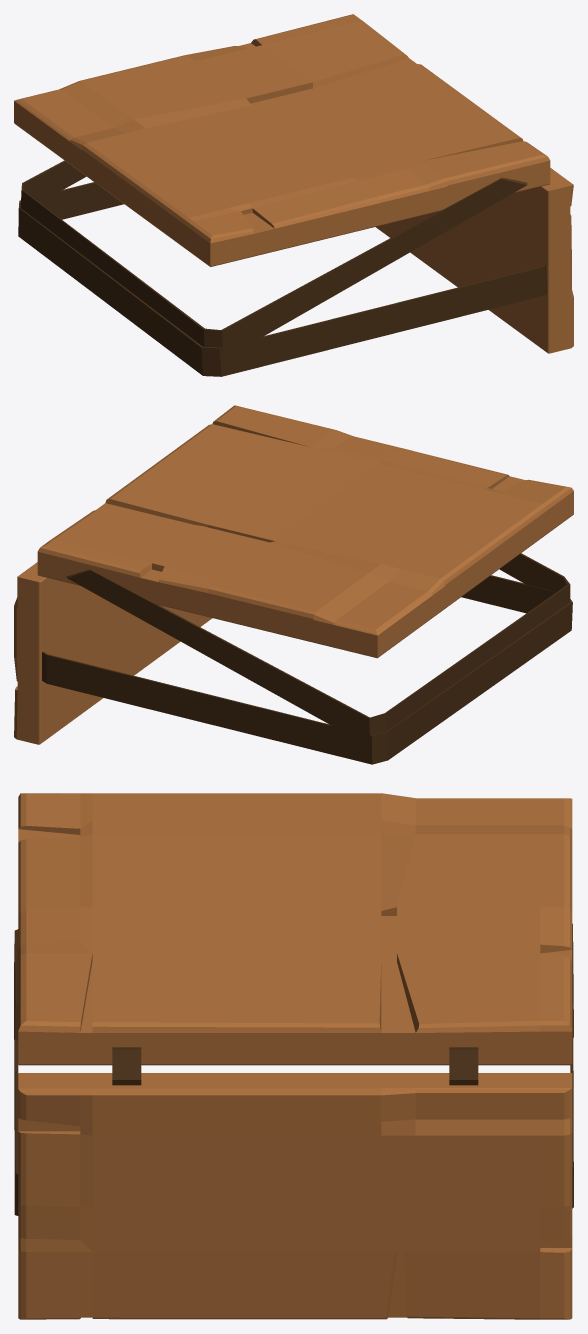
The model's file is WoodenPadShoulders.fbx.
3 views of the same model, one above another, from view 1: azimuth 30°, elevation 25°; view 2: azimuth 150°, elevation 25°; view 3: azimuth 270°, elevation 25° (orthographic). The views are drawn at different scales.
Parts seen in each view (by area): view 1: Padd, front left.002, Padd.001, front left.003; view 2: Padd, front left.002, Padd.001, front left.003; view 3: Padd, Padd.001, front left.002, front left.001, front left.006, front left.003.
Boxes of the visible parts, x1,y1,x2,y2 form: Padd: (14,14,550,266); front left.002: (18,182,546,376); Padd.001: (376,168,573,353); front left.003: (20,160,527,359); Padd: (37,405,573,658); front left.002: (42,575,572,764); Padd.001: (14,562,212,744); front left.003: (66,553,570,746); Padd: (18,793,572,1065); Padd.001: (18,1073,572,1319); front left.002: (14,986,573,1215); front left.001: (112,1047,141,1085); front left.006: (449,1047,478,1085); front left.003: (14,923,573,1040).
Size of the model in its own units: 111 by 56.91 by 103.
